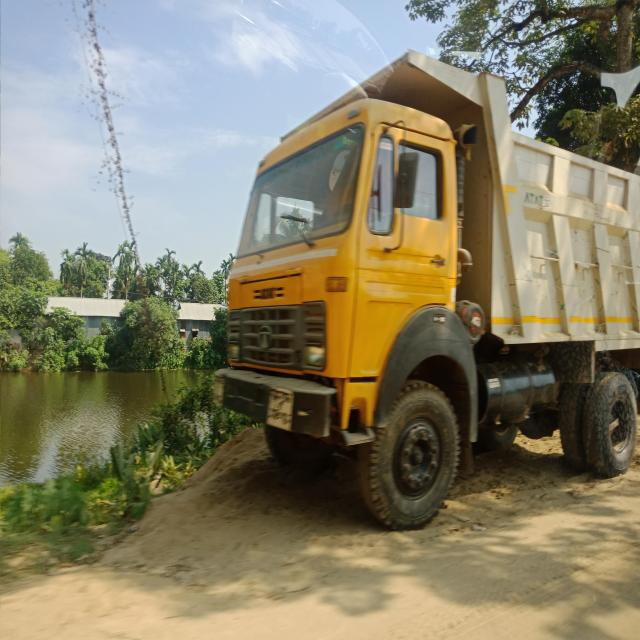truck: (205, 33, 640, 513)
